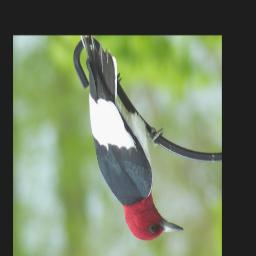Woodpecker: (78, 36, 186, 242)
